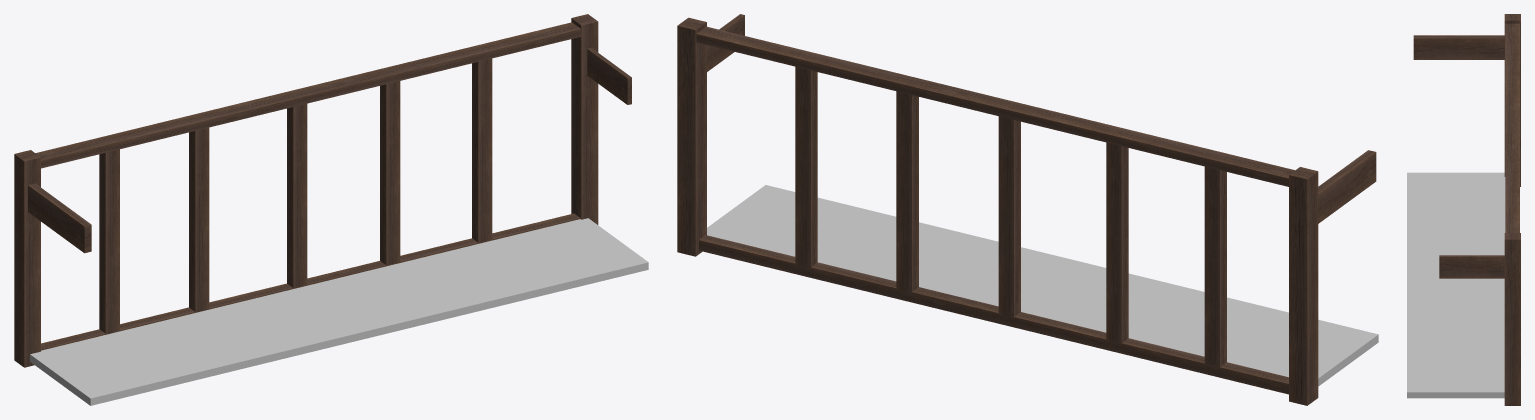
The model's file is windowflameout02c.fbx.
3 views of the same model, side by side, from view 1: azimuth 30°, elevation 25°; view 2: azimuth 150°, elevation 25°; view 3: azimuth 270°, elevation 25° (orthographic). The views are drawn at different scales.
Parts seen in each view (by area): view 1: windowflameout02c; view 2: windowflameout02c; view 3: windowflameout02c.
Boxes of the visible parts, x1,y1,x2,y2 form: windowflameout02c: (14,14,648,405); windowflameout02c: (677,14,1378,405); windowflameout02c: (1407,14,1520,405).
Bounding box in the file's own units: 171 × 58.9 × 36.57.
